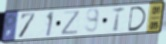1: (45, 11, 55, 38)
7: (18, 12, 36, 40)
9: (84, 7, 101, 36)
D: (127, 6, 147, 33)
T: (110, 6, 126, 34)
Z: (60, 10, 81, 36)
